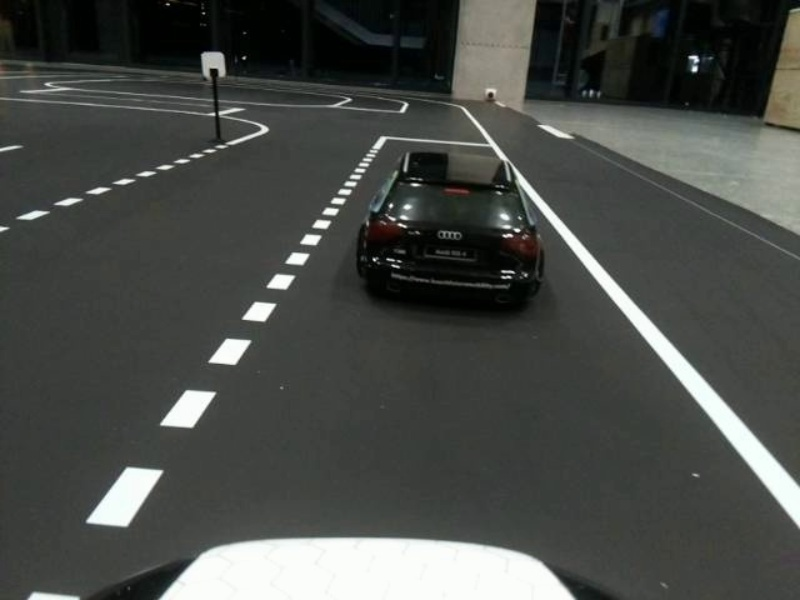car: (349, 139, 556, 325)
